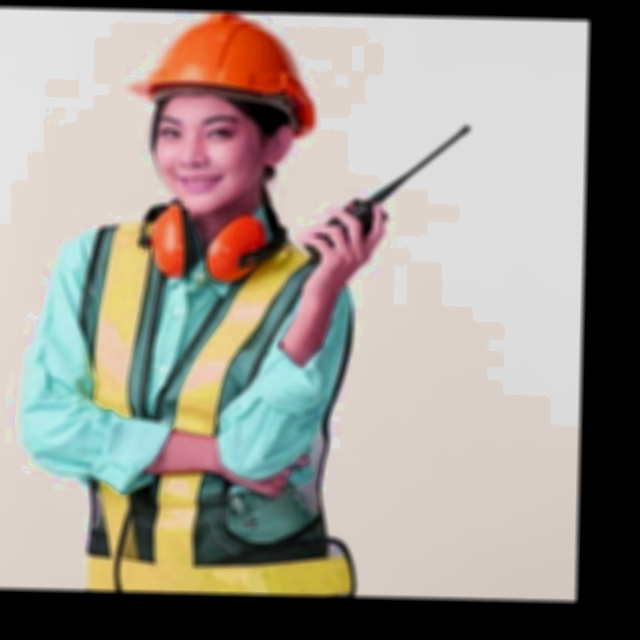Con_Casco: (125, 10, 318, 209)
Con_Chaleco: (77, 217, 358, 595)
